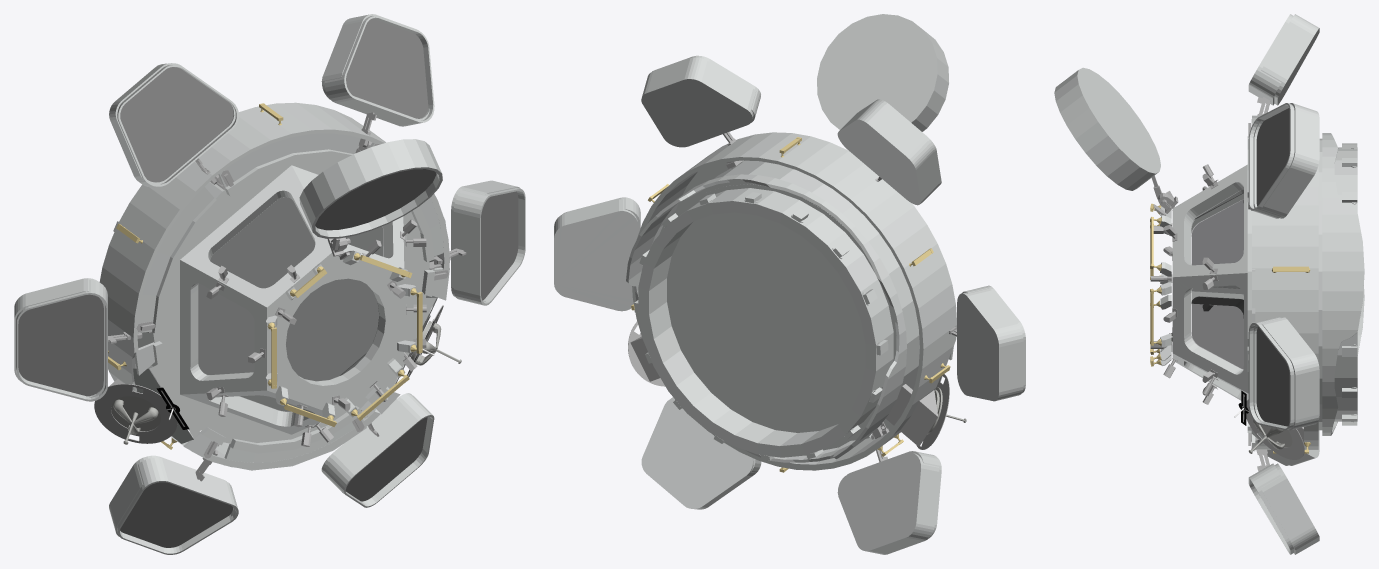
The model's file is cupola_open.glb.
3 views of the same model, side by side, from view 1: azimuth 30°, elevation 25°; view 2: azimuth 150°, elevation 25°; view 3: azimuth 270°, elevation 25° (orthographic). The views are drawn at different scales.
Parts seen in each view (by area): view 1: cupola_open; view 2: cupola_open; view 3: cupola_open.
Boxes of the visible parts, box(x1,y1,x2,y2) form: cupola_open: box(14, 14, 525, 554); cupola_open: box(554, 14, 1025, 554); cupola_open: box(1054, 14, 1364, 554).
Bounding box in the file's own units: 151 × 139 × 87.12.
